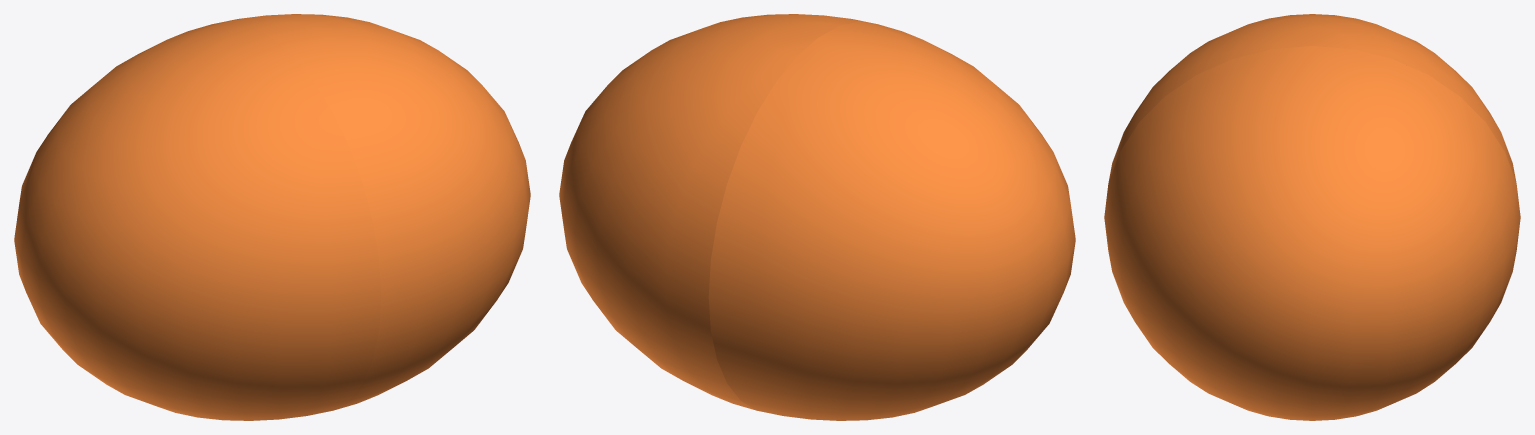
The model's file is Kiwi.fbx.
3 renders of one model, left to right at view 1: azimuth 30°, elevation 25°; view 2: azimuth 150°, elevation 25°; view 3: azimuth 270°, elevation 25°, orthographic. The views are drawn at different scales.
Visible parts, largest first — view 1: Sphere.007; view 2: Sphere.007; view 3: Sphere.007.
Boxes of the visible parts, <box> form: Sphere.007: <box>14,14,530,420</box>; Sphere.007: <box>559,14,1075,420</box>; Sphere.007: <box>1104,14,1520,420</box>.
Size of the model in its own units: 0.1543 by 0.1127 by 0.1239.
